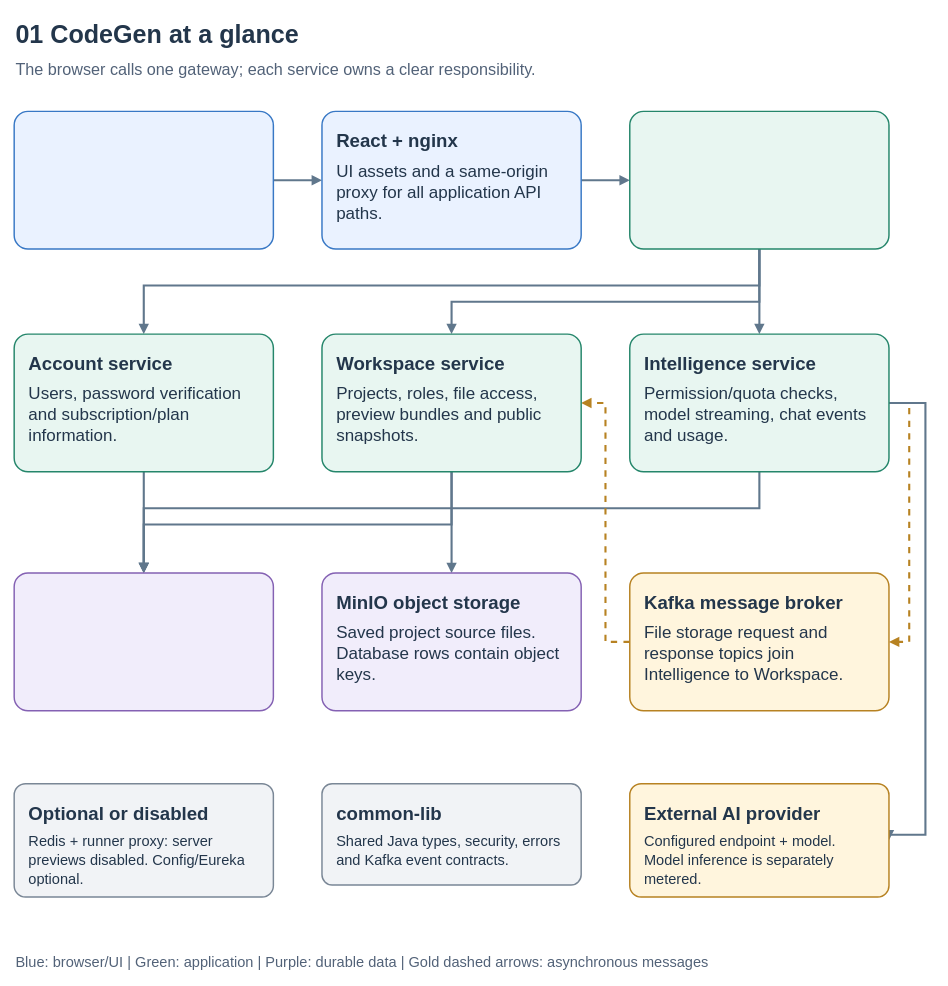
Image size: 948x986. Some labels were removed from this diagram. The shapes that lost their labels are listed below. From the top down, each one's box as (x1, y1, x2, y2) in pixels, then its label:
(13, 110, 274, 249): User in a browser Sign in, build, edit, preview, share and publish.
(629, 110, 889, 249): API gateway Routes /account, /workspace and /intelligence; validates JWTs.
(13, 572, 274, 711): PostgreSQL Three service databases: account, workspace and intelligence.
